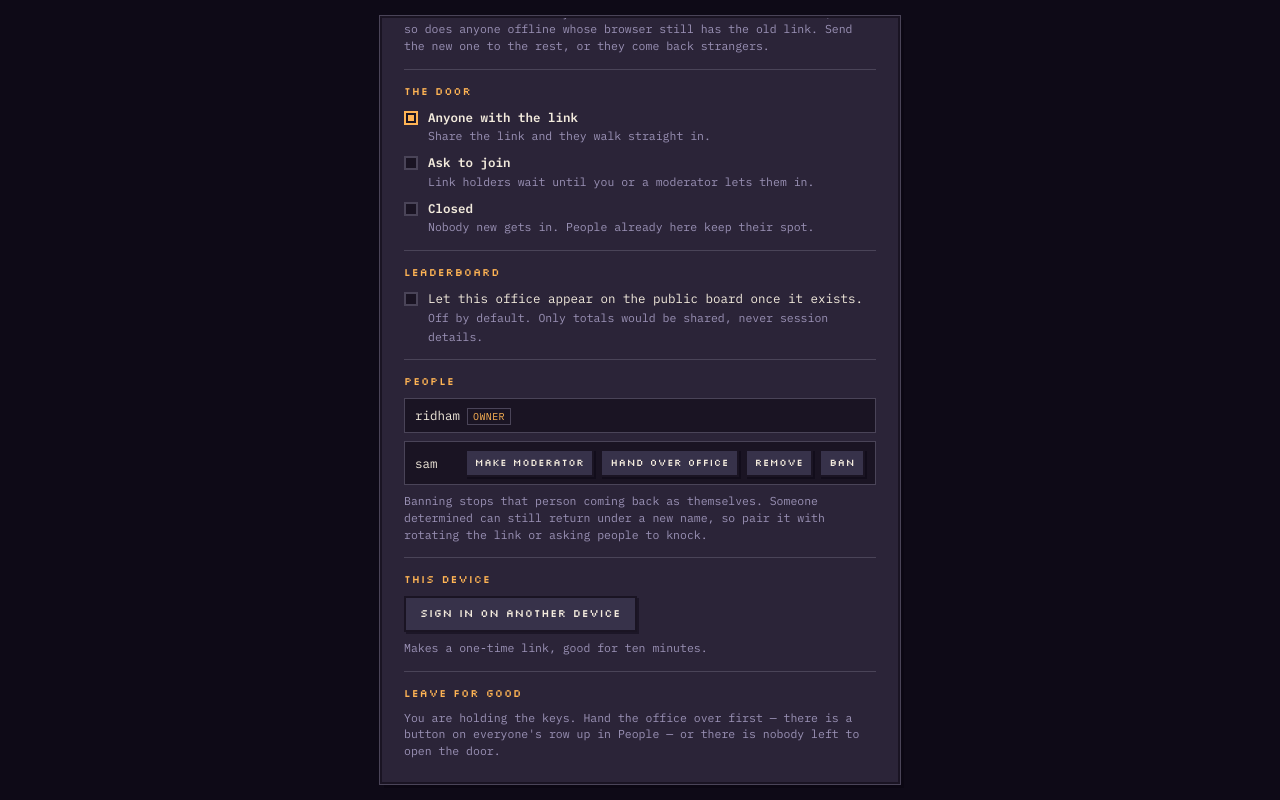
SettingsPanel › removing somebody › names the person and the cost in the question it asks
The image size is (1280, 800).
(page scrolled)
Step 1. Click the button with aria-label "Ban: sam" → (842, 463), box [819,449,865,477]
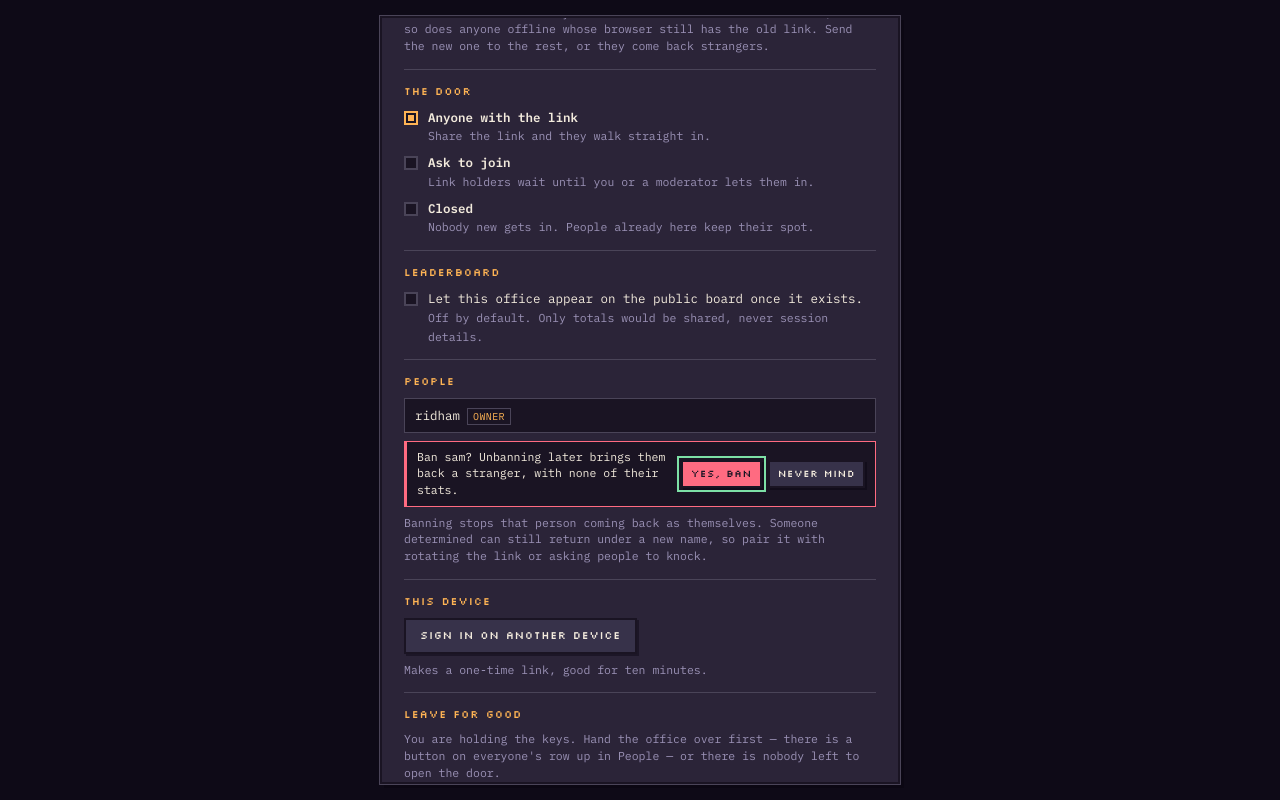
Result: the text "Ban sam?" shows "none of their stats" at [417,449,665,497]
